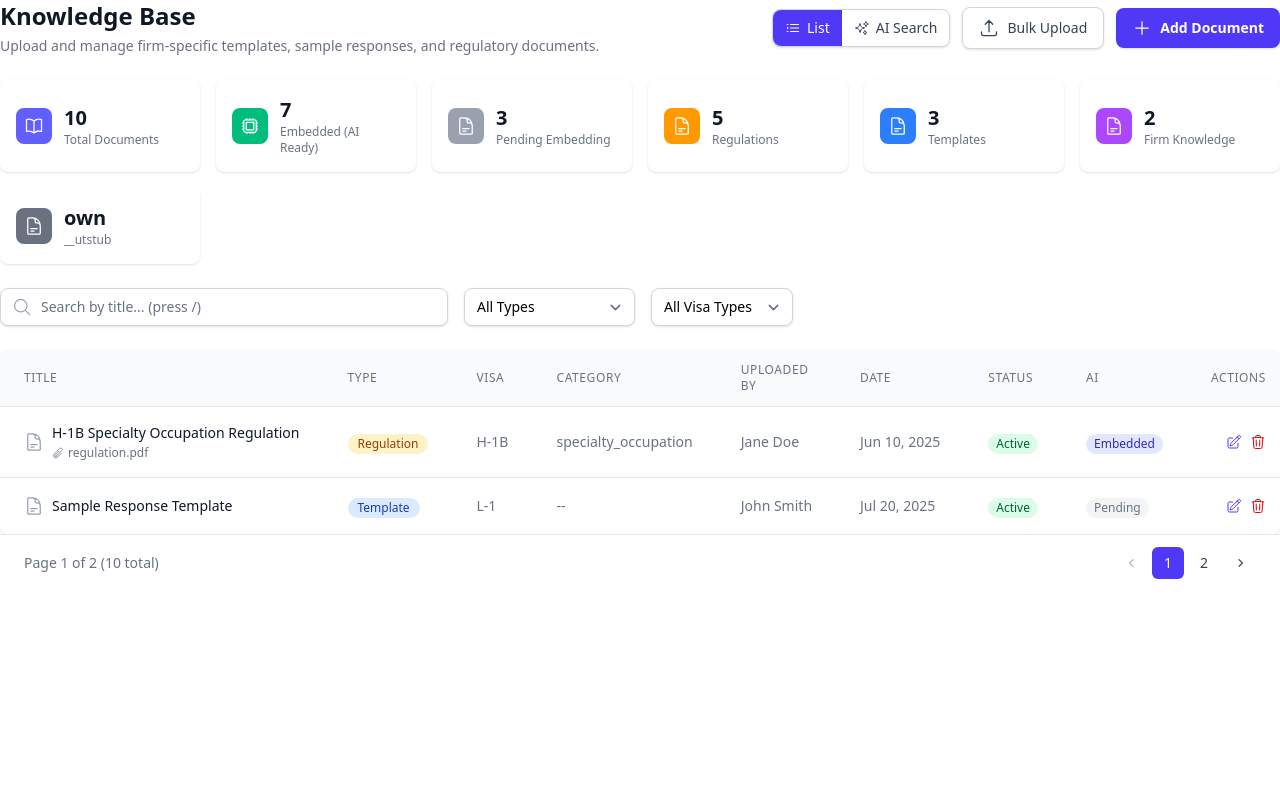
Test: KnowledgeView › opens create document modal
Click the button "Add Document" at [1198, 28], box [1116,8,1279,48]
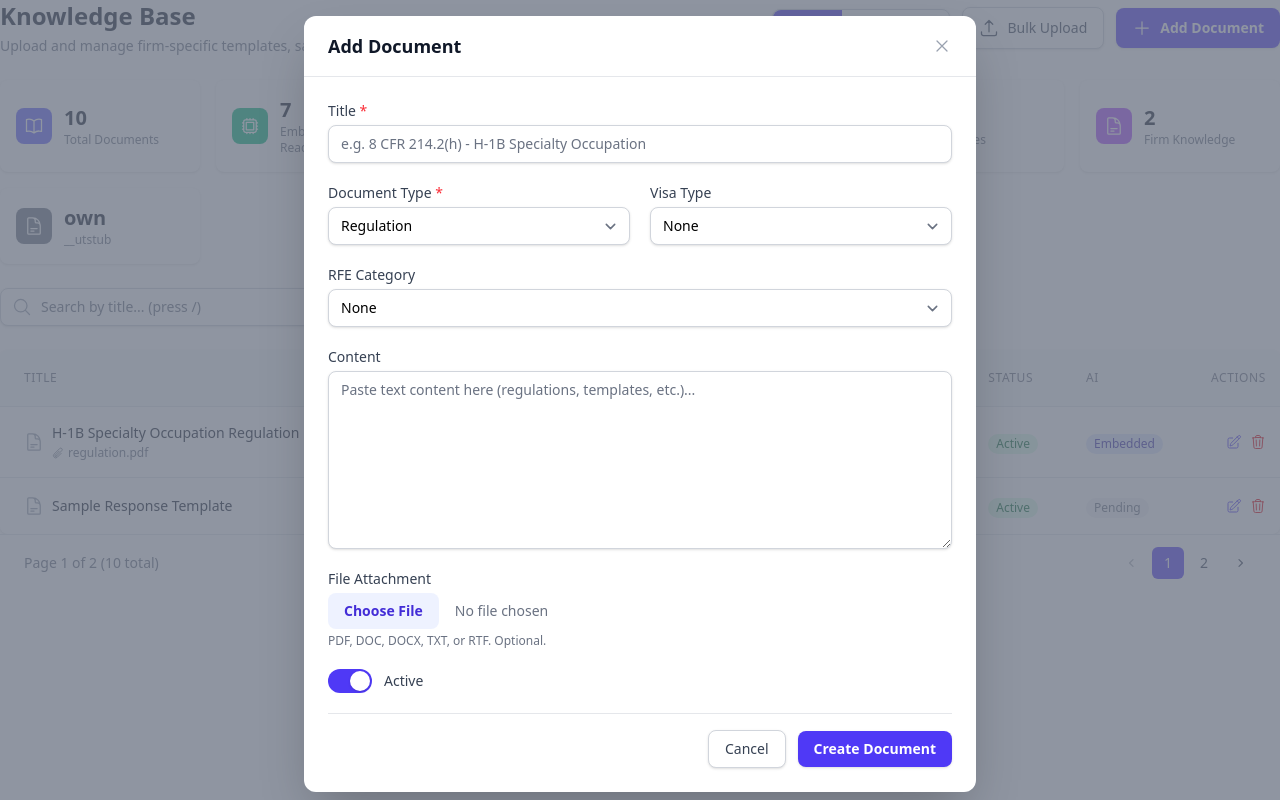
Expected: the field with id "doc-title" is shown, [328,125,952,163]
Expected: the dropdown with id "doc-type" is shown, [328,207,630,245]
